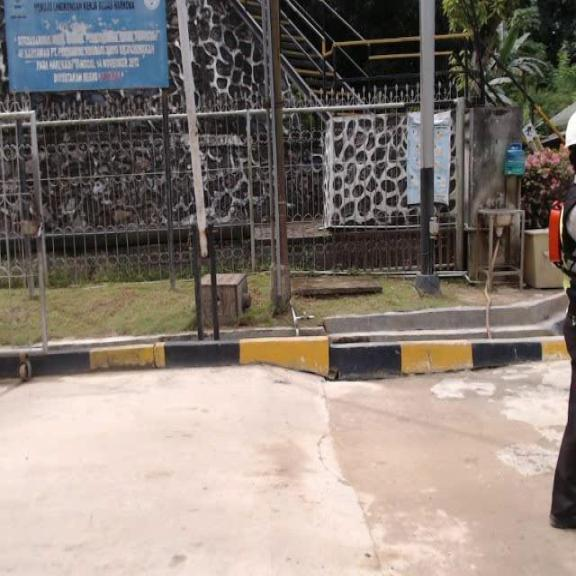safety_vest: (539, 198, 568, 265)
